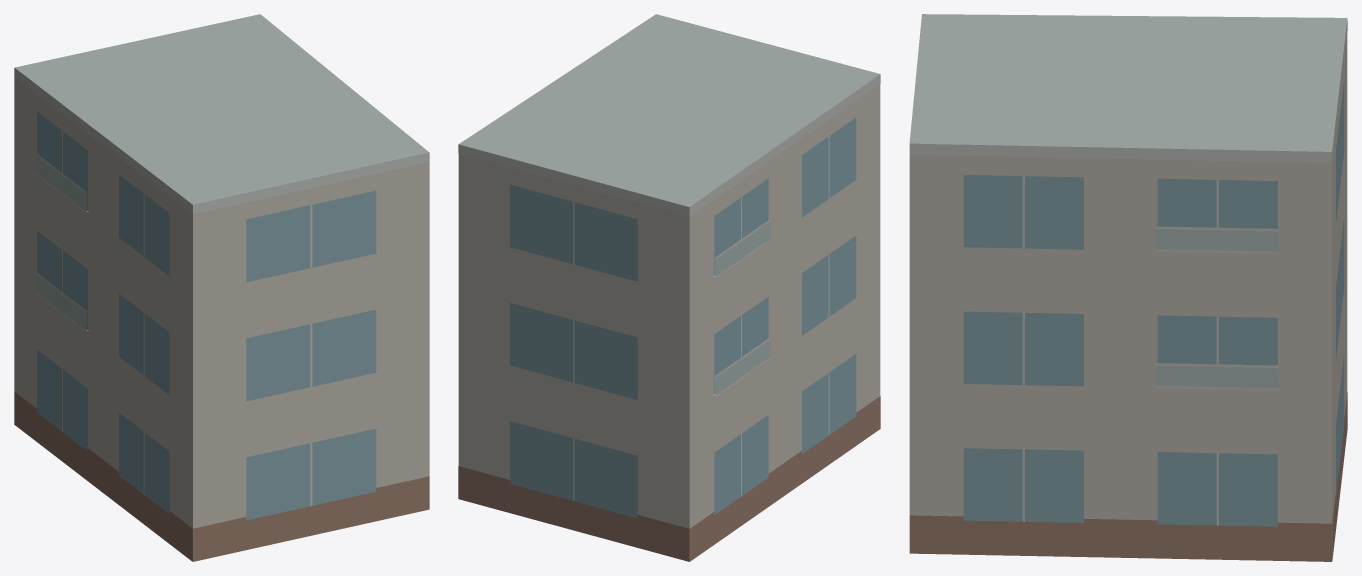
File: survey-upis-32966500.glb
The picture shows the model from 3 angles, left to right: view 1: azimuth 30°, elevation 25°; view 2: azimuth 150°, elevation 25°; view 3: azimuth 270°, elevation 25°; orthographic projection. The views are drawn at different scales.
Parts seen in each view (by area): view 1: survey-upis-32966500.tmp; view 2: survey-upis-32966500.tmp; view 3: survey-upis-32966500.tmp.
Boxes of the visible parts, bbox=[...] form: survey-upis-32966500.tmp: bbox=[14, 14, 429, 561]; survey-upis-32966500.tmp: bbox=[458, 14, 880, 561]; survey-upis-32966500.tmp: bbox=[909, 14, 1347, 561].
Bounding box in the file's own units: 6.58 × 9.1 × 8.82.
